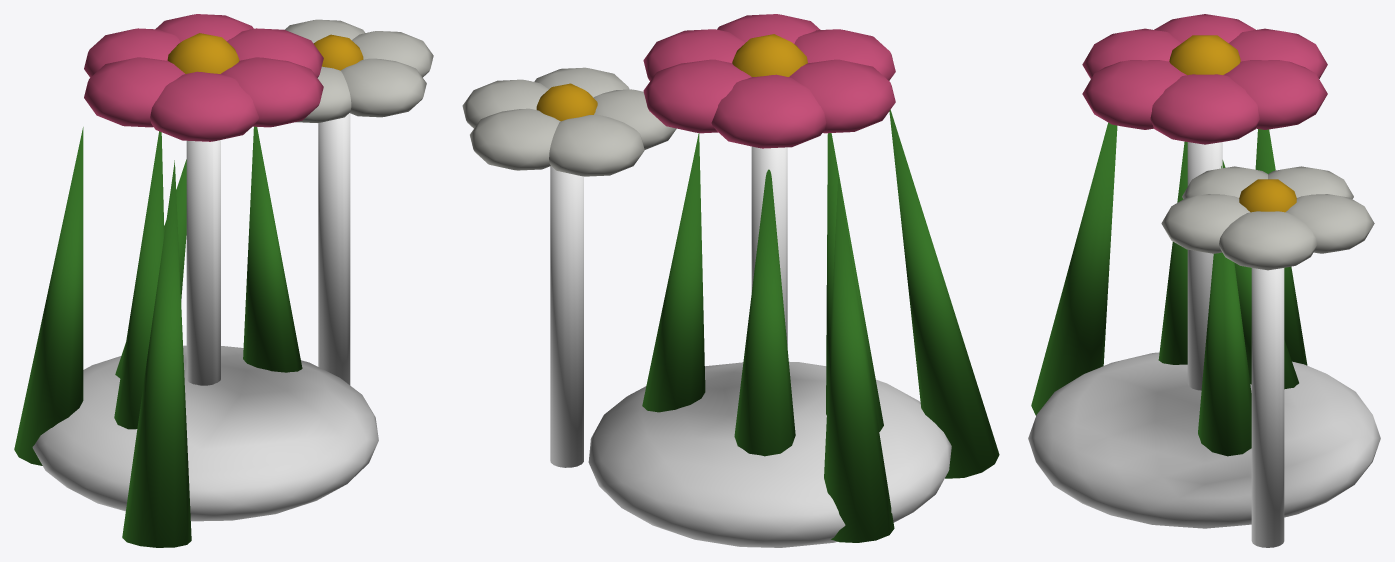
File: wildflower.obj
The picture shows the model from 3 angles, left to right: view 1: azimuth 30°, elevation 25°; view 2: azimuth 150°, elevation 25°; view 3: azimuth 270°, elevation 25°; orthographic projection. The views are drawn at different scales.
Visible parts, largest first — view 1: wildflower; view 2: wildflower; view 3: wildflower.
Boxes of the visible parts, left/top/right/bottom form: wildflower: left=14, top=14, right=433, bottom=547; wildflower: left=462, top=14, right=999, bottom=547; wildflower: left=1028, top=14, right=1380, bottom=547.
Bounding box in the file's own units: 0.3755 × 0.4029 × 0.2804.
